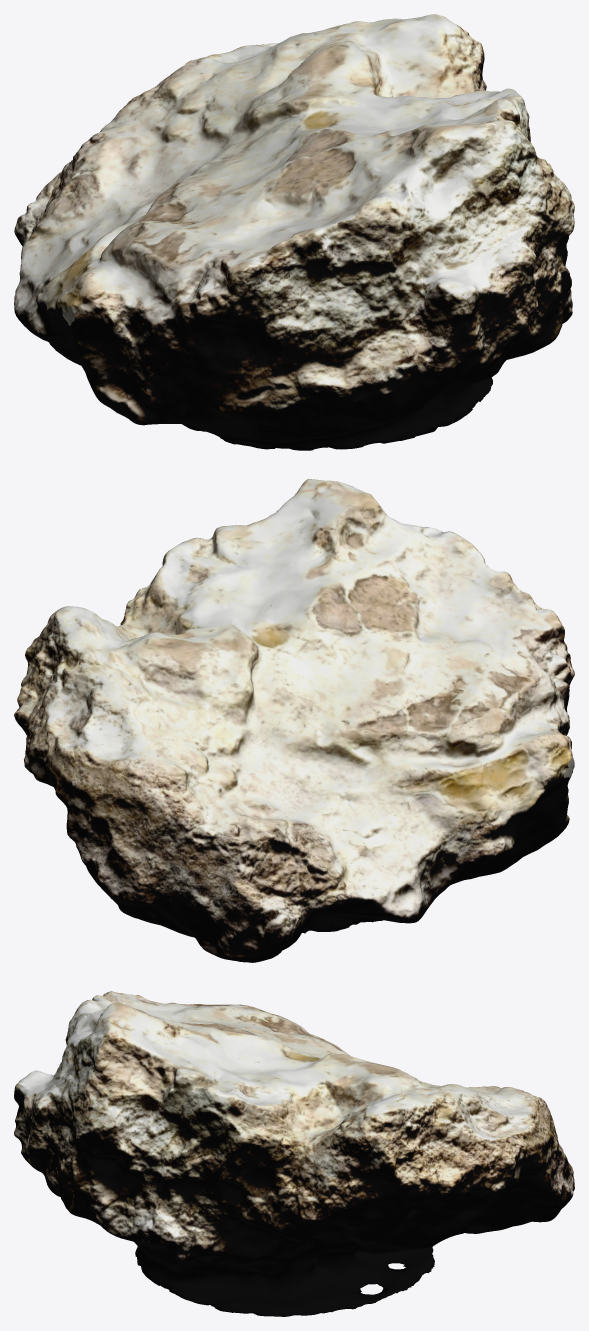
3 renders of one model, top to bottom at view 1: azimuth 30°, elevation 25°; view 2: azimuth 150°, elevation 25°; view 3: azimuth 270°, elevation 25°, orthographic. The views are drawn at different scales.
Parts seen in each view (by area): view 1: Specimen_Working; view 2: Specimen_Working; view 3: Specimen_Working.
Part boxes in pixels (<box>): Specimen_Working: <box>14,14,574,450</box>; Specimen_Working: <box>14,479,574,962</box>; Specimen_Working: <box>14,991,574,1316</box>.
Size of the model in its own units: 3.55 by 2.13 by 4.16.
1 material, 1 textured.
